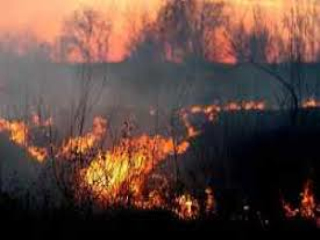fire: (3, 107, 196, 208), (192, 95, 315, 117), (287, 184, 316, 218)
